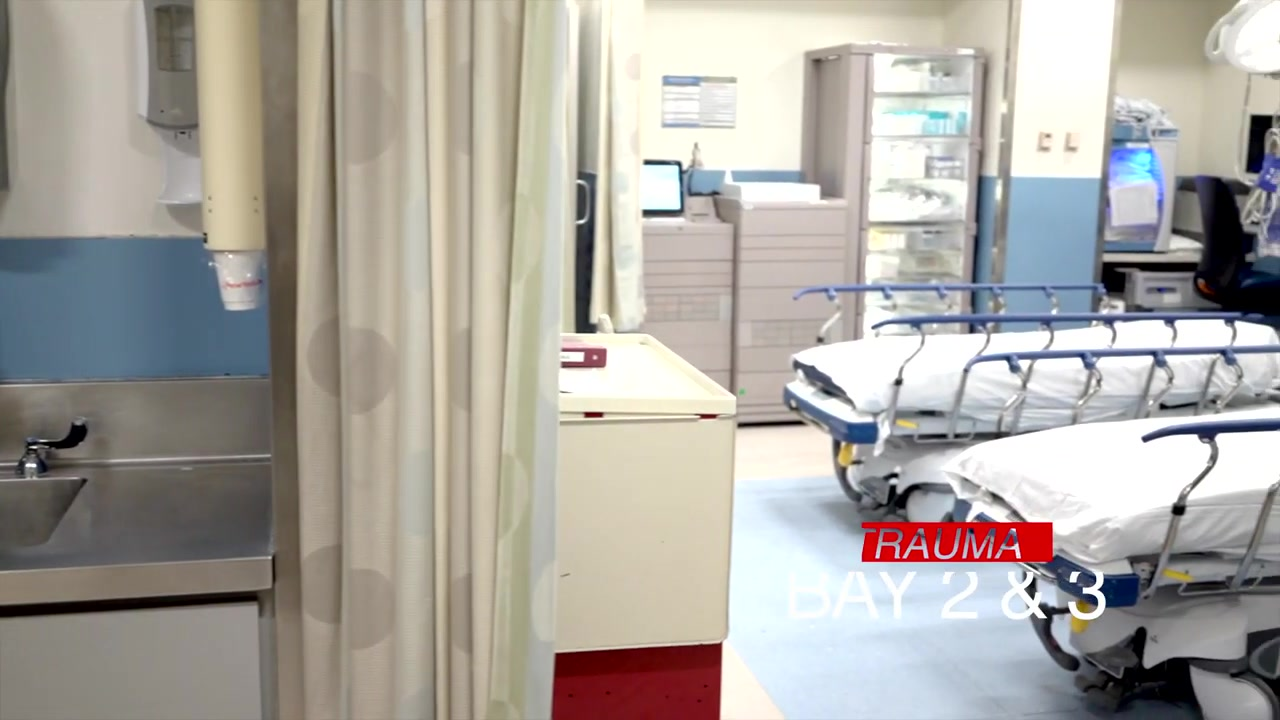bedrail: (952, 348, 1280, 439), (1139, 420, 1280, 602), (794, 279, 1116, 337)
cabinet: (810, 45, 990, 332)
chair: (1193, 169, 1280, 311)
computer: (640, 160, 684, 217)
curtain: (294, 1, 561, 720), (589, 1, 646, 330)
dispenser: (133, 1, 204, 208)
drawer: (738, 192, 850, 430), (643, 223, 731, 398)
faucet: (10, 405, 88, 472)
handle: (577, 172, 594, 228)
hospital_bed: (942, 406, 1280, 720), (786, 315, 1280, 529)
sink: (1, 480, 88, 556)
surgical_light: (1204, 1, 1280, 78)
